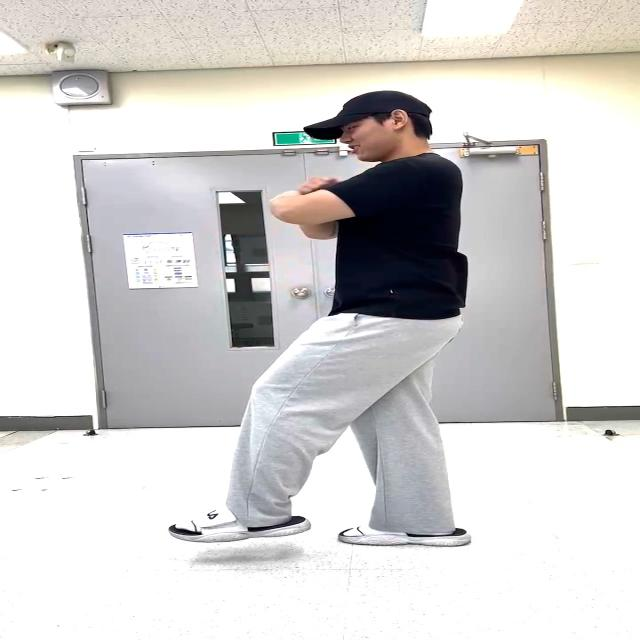leg: (192, 297, 385, 568)
